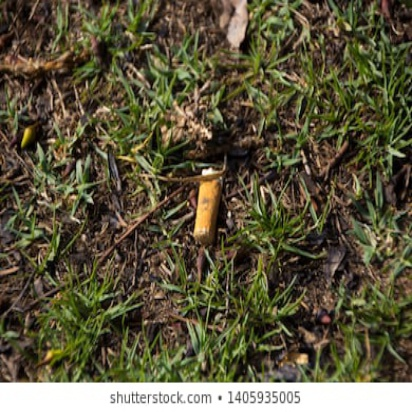cigarette: (189, 162, 232, 243)
